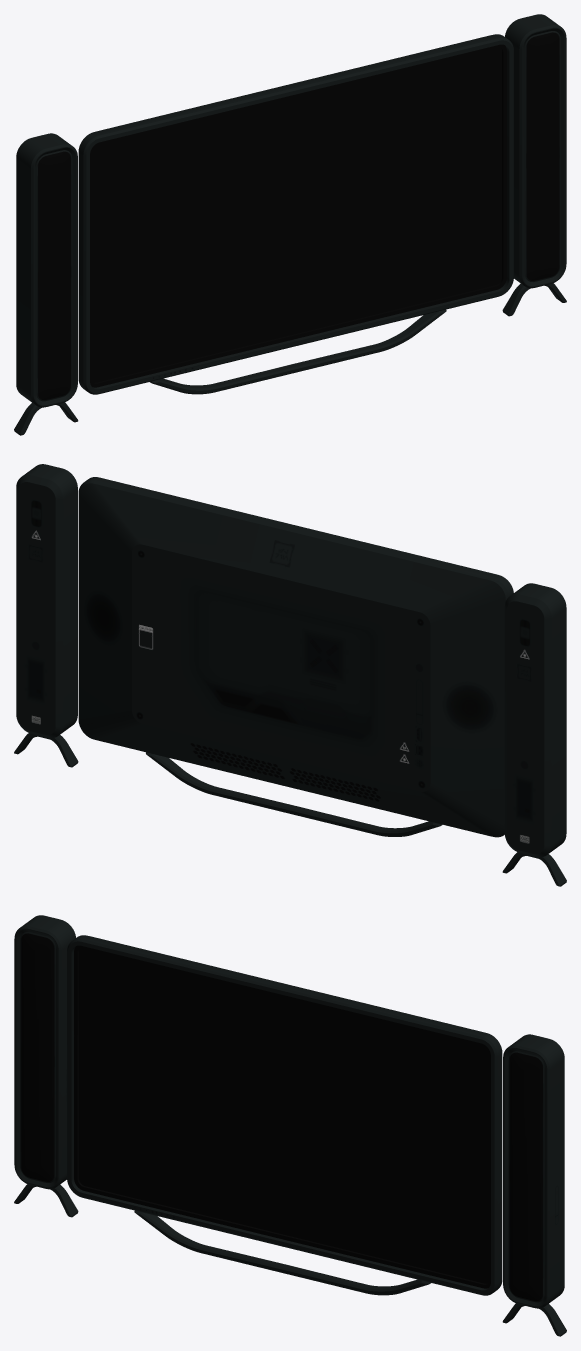
Rendered from PROP_TV_Recepcao_PREP.glb.
3 renders of one model, top to bottom at view 1: azimuth 30°, elevation 25°; view 2: azimuth 150°, elevation 25°; view 3: azimuth 330°, elevation 25°, orthographic.
Visible parts, largest first — view 1: TV de parede · 1,20 m; view 2: TV de parede · 1,20 m; view 3: TV de parede · 1,20 m.
Part boxes in pixels (x1,y1,x2,y2): TV de parede · 1,20 m: (14, 14, 566, 435); TV de parede · 1,20 m: (14, 464, 566, 886); TV de parede · 1,20 m: (14, 915, 566, 1336).
Bounding box in the file's own units: 1.2 × 0.5999 × 0.0712.
Materials: 1 (1 with a texture image).
